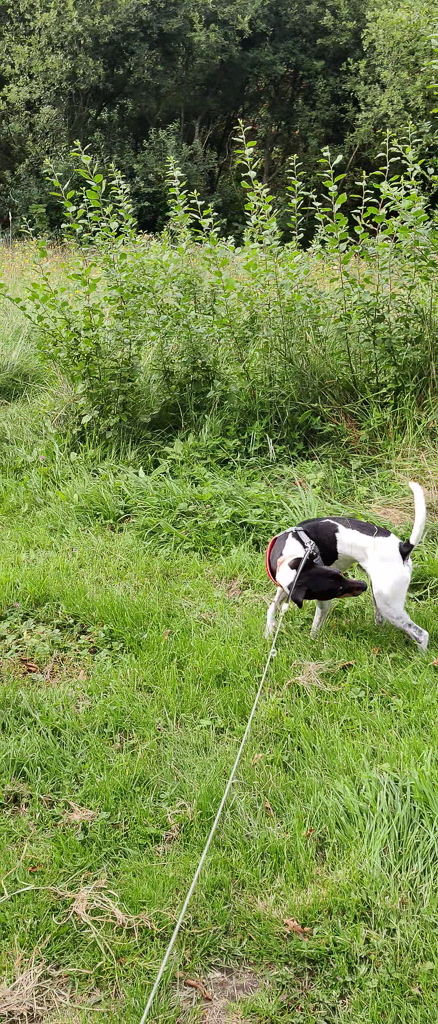Dog: (249, 465, 438, 659)
